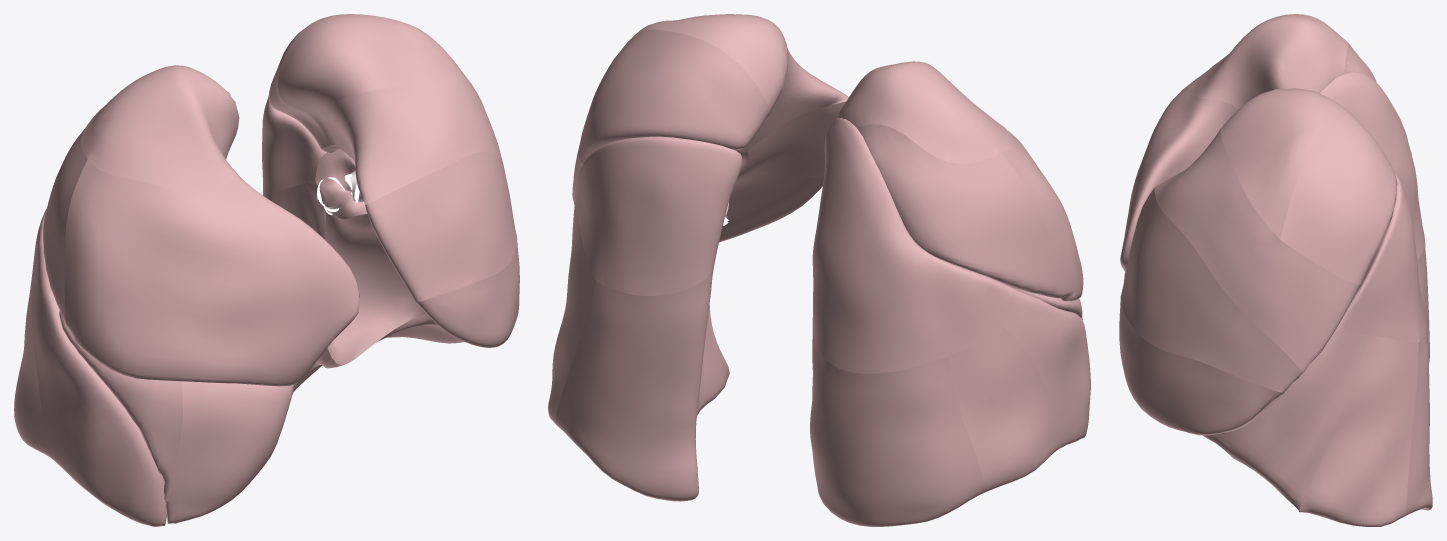
File: lungs.glb
The picture shows the model from 3 angles, left to right: view 1: azimuth 30°, elevation 25°; view 2: azimuth 150°, elevation 25°; view 3: azimuth 270°, elevation 25°; orthographic projection. The views are drawn at different scales.
Visible parts, largest first — view 1: VH_F_right_anterior_bronchopulmonary_segm, VH_F_right_anterior_basal_bronchopulmonary_segment, VH_F_lingula_superior_bronchopulmonary_segment, VH_F_right_apical_bronchopulmonary_segment, VH_F_left_anterior_bronchopulmonary_segment, VH_F_left_apical_bronchopulmonary_segment, VH_F_right_medial_bronchopulmonary_segment, VH_F_left_medial_basal_bronchopulmonary_segment, VH_F_lingula_inferior_bronchopulmonary_segment, VH_F_right_lateral_bronchopulmonary_segmennt, VH_F_left_superior_bronchopulmonary_segment, VH_F_right_posterior_bronchopulmonary_segment (+6 smaller); view 2: VH_F_right_superior_bronchopulmonary_segment, VH_F_left_posterior_basal_bronchopulmonary_segment, VH_F_right_posterior_basal_bronchopulmonary_segment, VH_F_left_superior_bronchopulmonary_segment, VH_F_right_posterior_bronchopulmonary_segment, VH_F_left_posterior_bronchopulmonary_segment, VH_F_right_lateral_basal_bronchopulmonary_segment, VH_F_right_apical_bronchopulmonary_segment, VH_F_right_anterior_basal_bronchopulmonary_segment, VH_F_left_apical_bronchopulmonary_segment, VH_F_lingula_inferior_bronchopulmonary_segment, VH_F_lingula_superior_bronchopulmonary_segment (+3 smaller); view 3: VH_F_left_anterior_bronchopulmonary_segment, VH_F_lingula_superior_bronchopulmonary_segment, VH_F_left_lateral_basal_bronchopulmonary_segment, VH_F_left_posterior_bronchopulmonary_segment, VH_F_left_anterior_basal_bronchopulmonary_segment, VH_F_lingula_inferior_bronchopulmonary_segment, VH_F_left_apical_bronchopulmonary_segment, VH_F_right_apical_bronchopulmonary_segment, VH_F_left_superior_bronchopulmonary_segment, VH_F_right_anterior_bronchopulmonary_segm, VH_F_right_superior_bronchopulmonary_segment, VH_F_left_posterior_basal_bronchopulmonary_segment (+2 smaller).
Part boxes in pixels (bbox=[...]): VH_F_right_anterior_bronchopulmonary_segm: bbox=[64, 159, 359, 386]; VH_F_right_anterior_basal_bronchopulmonary_segment: bbox=[32, 265, 166, 526]; VH_F_lingula_superior_bronchopulmonary_segment: bbox=[365, 151, 517, 302]; VH_F_right_apical_bronchopulmonary_segment: bbox=[81, 65, 239, 193]; VH_F_left_anterior_bronchopulmonary_segment: bbox=[329, 78, 502, 204]; VH_F_left_apical_bronchopulmonary_segment: bbox=[278, 14, 470, 145]; VH_F_right_medial_bronchopulmonary_segment: bbox=[165, 381, 293, 523]; VH_F_left_medial_basal_bronchopulmonary_segment: bbox=[324, 205, 425, 364]; VH_F_lingula_inferior_bronchopulmonary_segment: bbox=[416, 242, 519, 347]; VH_F_right_lateral_bronchopulmonary_segmennt: bbox=[59, 310, 182, 499]; VH_F_left_superior_bronchopulmonary_segment: bbox=[262, 95, 326, 197]; VH_F_right_posterior_bronchopulmonary_segment: bbox=[43, 129, 87, 325]; VH_F_right_superior_bronchopulmonary_segment: bbox=[812, 118, 1012, 373]; VH_F_left_posterior_basal_bronchopulmonary_segment: bbox=[555, 265, 729, 501]; VH_F_right_posterior_basal_bronchopulmonary_segment: bbox=[810, 325, 983, 526]; VH_F_left_superior_bronchopulmonary_segment: bbox=[576, 136, 742, 295]; VH_F_right_posterior_bronchopulmonary_segment: bbox=[857, 124, 1064, 298]; VH_F_left_posterior_bronchopulmonary_segment: bbox=[579, 29, 769, 164]; VH_F_right_lateral_basal_bronchopulmonary_segment: bbox=[948, 322, 1058, 493]; VH_F_right_apical_bronchopulmonary_segment: bbox=[836, 61, 1012, 163]; VH_F_right_anterior_basal_bronchopulmonary_segment: bbox=[999, 287, 1090, 449]; VH_F_left_apical_bronchopulmonary_segment: bbox=[634, 14, 788, 113]; VH_F_lingula_inferior_bronchopulmonary_segment: bbox=[719, 171, 823, 242]; VH_F_lingula_superior_bronchopulmonary_segment: bbox=[739, 101, 845, 178]; VH_F_left_anterior_bronchopulmonary_segment: bbox=[1154, 129, 1360, 372]; VH_F_lingula_superior_bronchopulmonary_segment: bbox=[1120, 188, 1303, 393]; VH_F_left_lateral_basal_bronchopulmonary_segment: bbox=[1299, 335, 1418, 526]; VH_F_left_posterior_bronchopulmonary_segment: bbox=[1280, 100, 1397, 284]; VH_F_left_anterior_basal_bronchopulmonary_segment: bbox=[1202, 330, 1369, 510]; VH_F_lingula_inferior_bronchopulmonary_segment: bbox=[1119, 300, 1283, 435]; VH_F_left_apical_bronchopulmonary_segment: bbox=[1220, 88, 1333, 239]; VH_F_right_apical_bronchopulmonary_segment: bbox=[1194, 14, 1348, 109]; VH_F_left_superior_bronchopulmonary_segment: bbox=[1335, 173, 1426, 342]; VH_F_right_anterior_bronchopulmonary_segm: bbox=[1120, 71, 1238, 272]; VH_F_right_superior_bronchopulmonary_segment: bbox=[1319, 71, 1424, 259]; VH_F_left_posterior_basal_bronchopulmonary_segment: bbox=[1404, 329, 1432, 516].
Bounding box in the file's own units: 1.36 × 1.21 × 0.8273.
